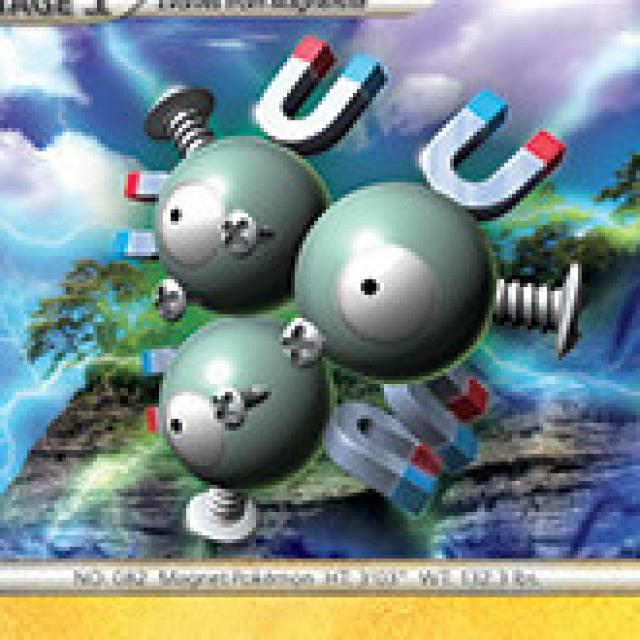Magneton: (118, 58, 578, 512)
